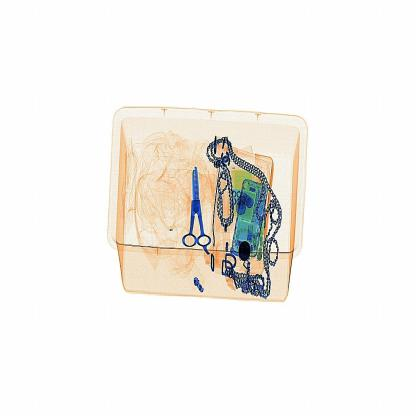gun: (181, 165, 220, 259)
